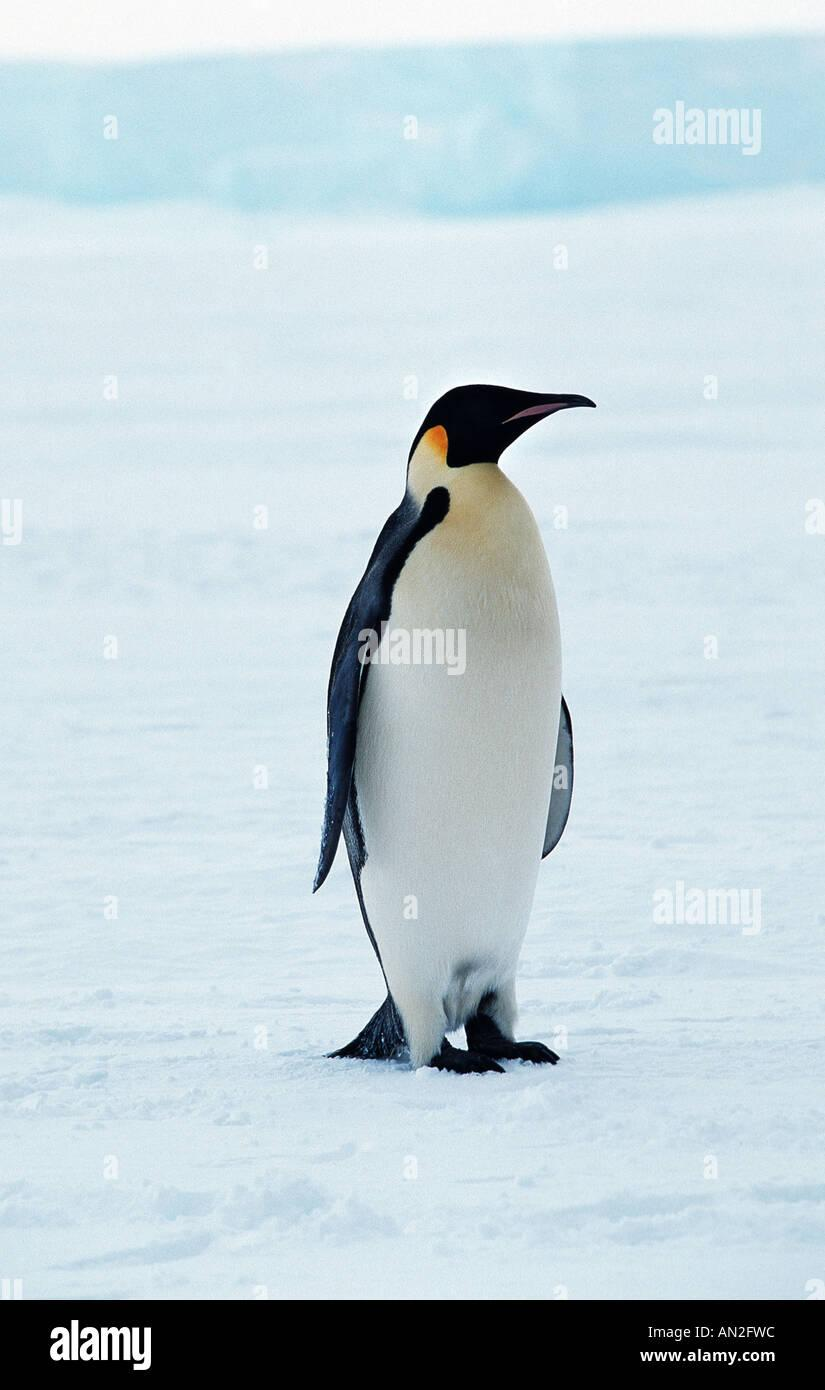emporer: (291, 340, 634, 1116)
